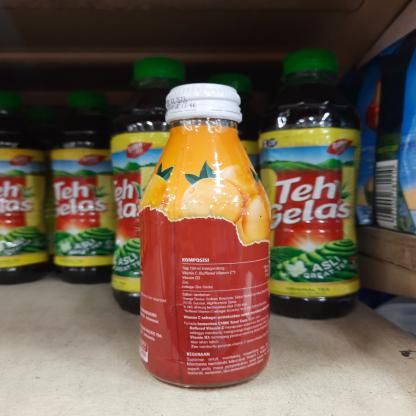bottle: (136, 78, 277, 394), (265, 43, 367, 320), (50, 87, 112, 283), (0, 81, 50, 288)
